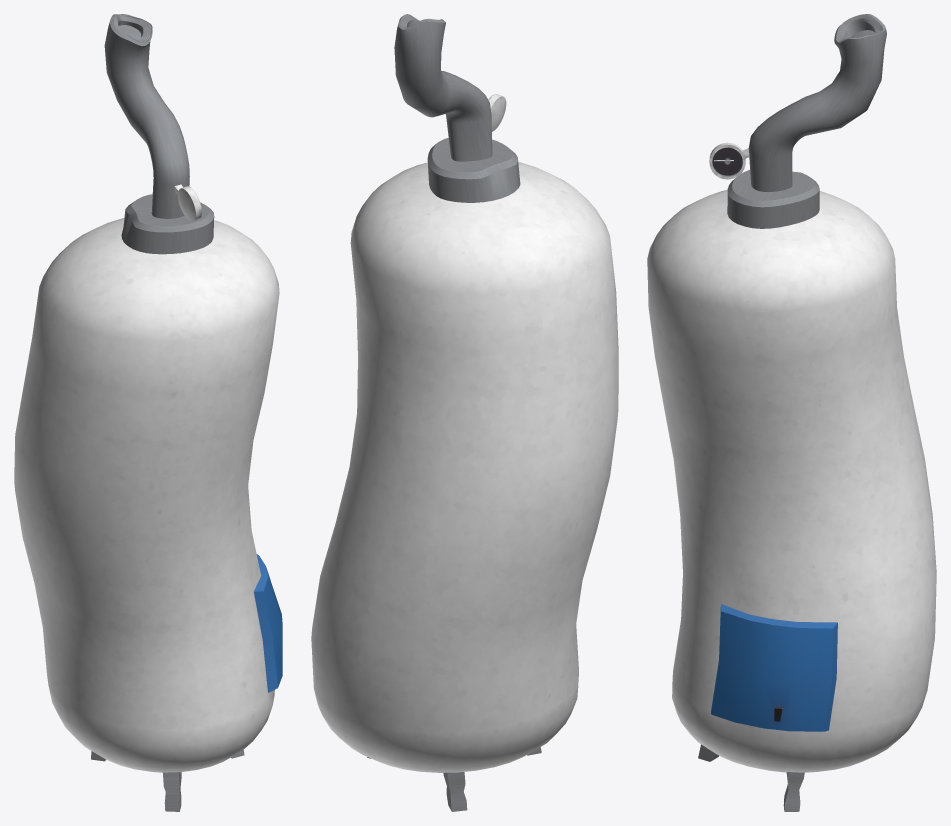
The model's file is WaterTank.fbx.
3 renders of one model, left to right at view 1: azimuth 30°, elevation 25°; view 2: azimuth 150°, elevation 25°; view 3: azimuth 270°, elevation 25°, orthographic. The views are drawn at different scales.
Visible parts, largest first — view 1: WaterTank; view 2: WaterTank; view 3: WaterTank.
Part boxes in pixels (<box>): WaterTank: <box>14,14,282,811</box>; WaterTank: <box>311,14,618,811</box>; WaterTank: <box>647,14,936,811</box>.
Size of the model in its own units: 66.4 by 189 by 65.76.
